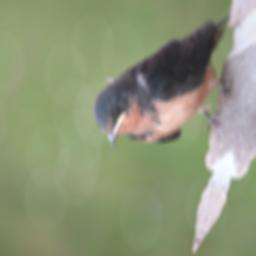Swallow: (80, 0, 256, 176)
